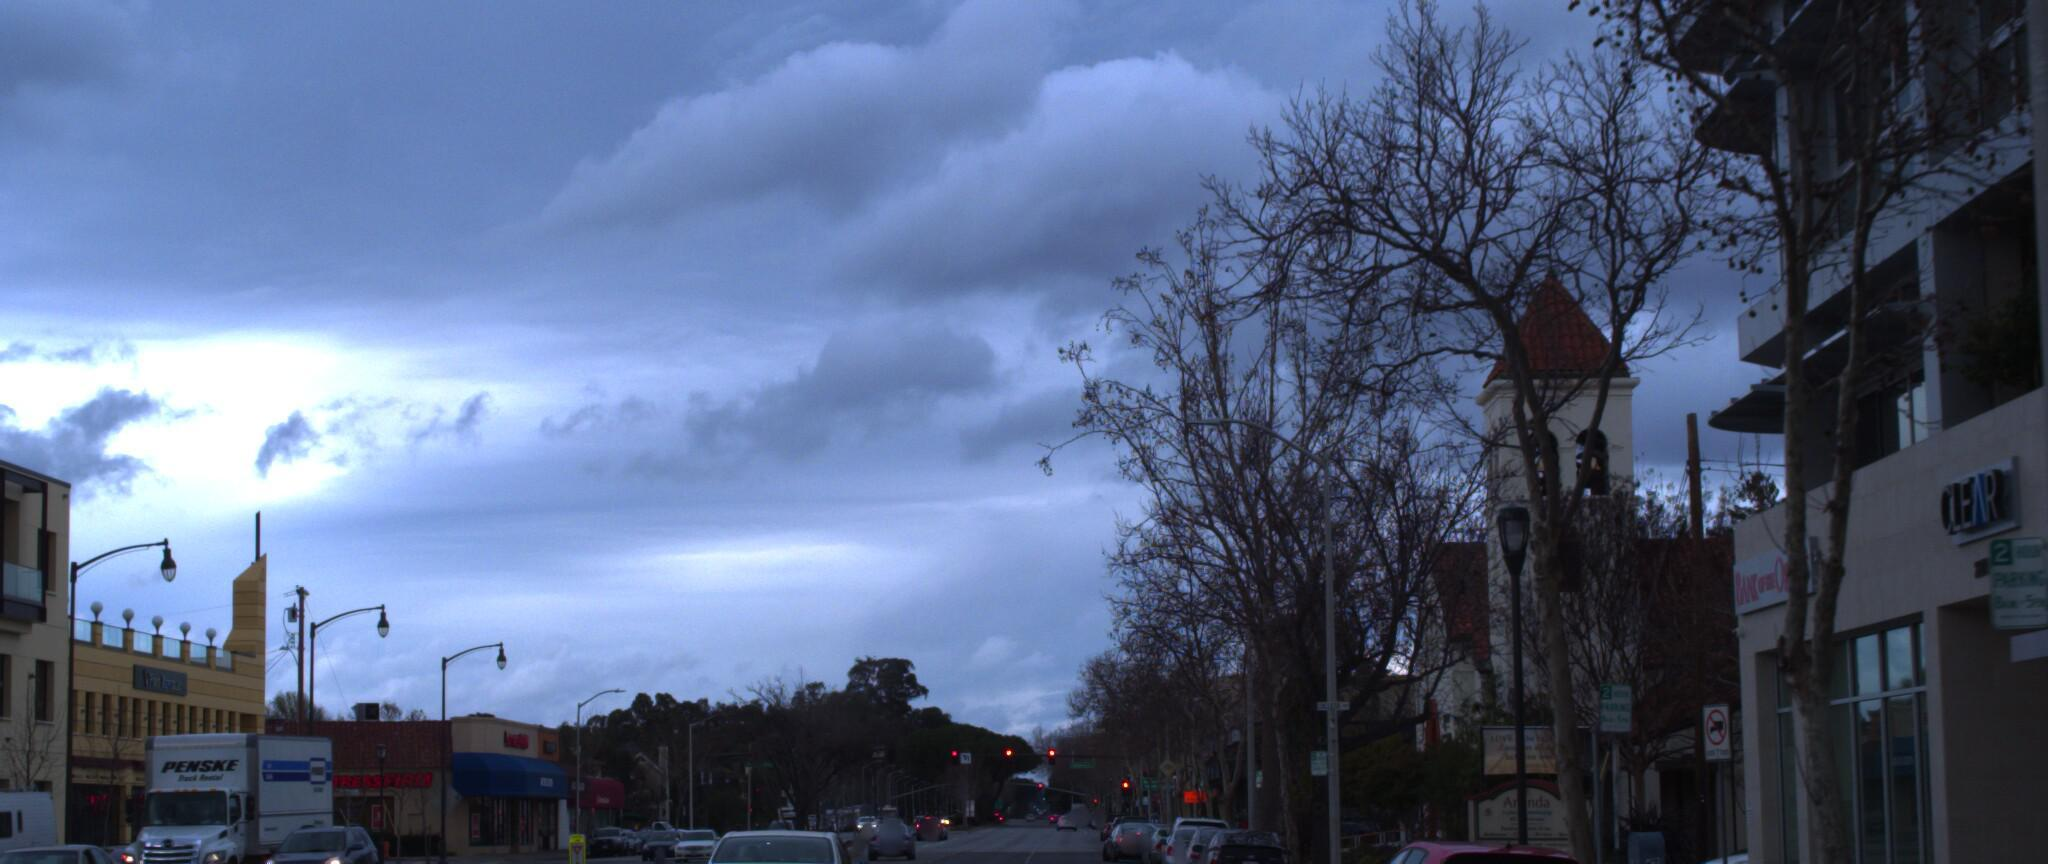car: (1656, 810, 1959, 864), (666, 807, 876, 864), (1309, 830, 1650, 864), (0, 824, 210, 864), (242, 824, 391, 864), (1187, 820, 1288, 864), (0, 842, 145, 864)
other_vehicle: (0, 769, 69, 864)
truck: (78, 715, 357, 864)
